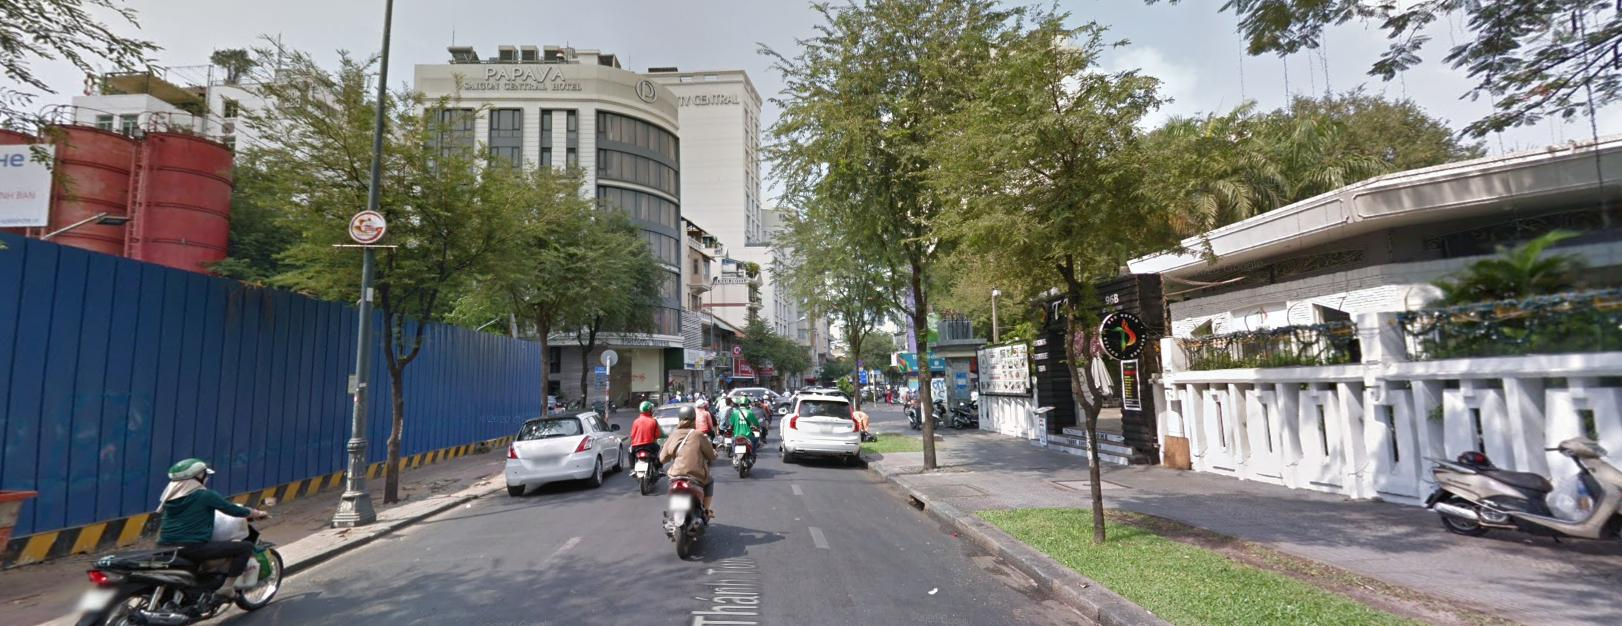Cam dung va do: (853, 356, 863, 364)
